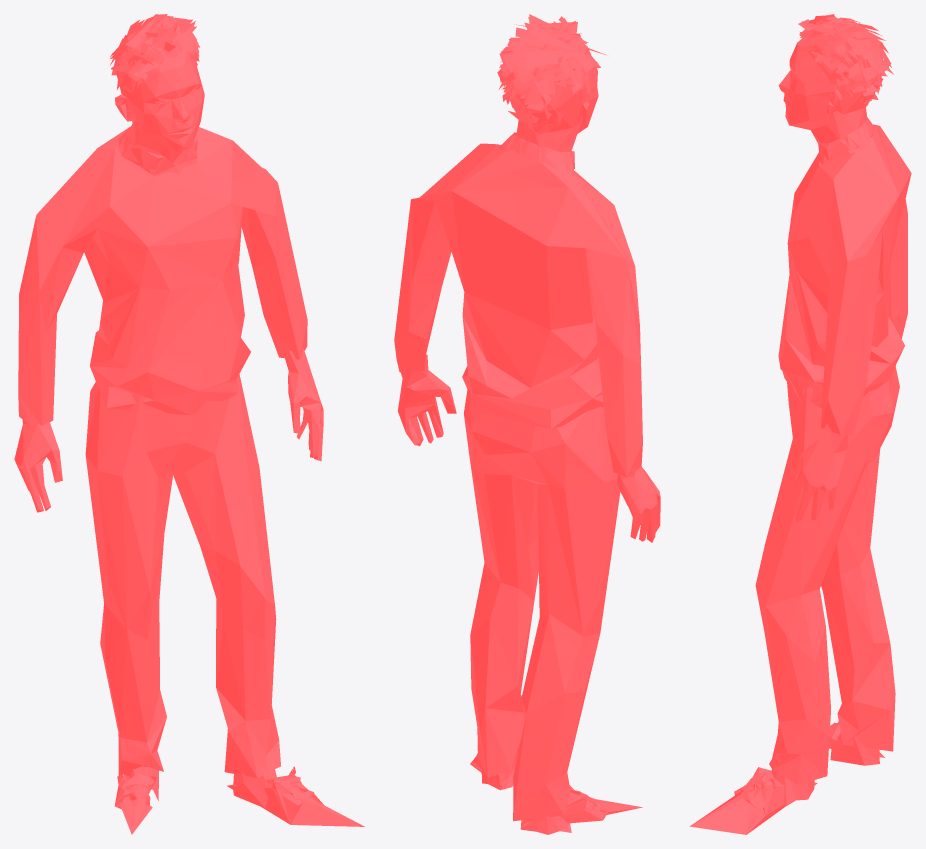
Rendered from ross_debout.glb.
The picture shows the model from 3 angles, left to right: view 1: azimuth 30°, elevation 25°; view 2: azimuth 150°, elevation 25°; view 3: azimuth 270°, elevation 25°; orthographic projection. The views are drawn at different scales.
Parts seen in each view (by area): view 1: Ch31_Sweater, Ch31_Pants, Ch31_Body, Ch31_Shoes, Ch31_Hair, Ch31_Collar; view 2: Ch31_Sweater, Ch31_Pants, Ch31_Body, Ch31_Hair, Ch31_Shoes, Ch31_Collar; view 3: Ch31_Pants, Ch31_Sweater, Ch31_Body, Ch31_Hair, Ch31_Shoes, Ch31_Collar.
Part boxes in pixels (x1,y1,x2,y2): Ch31_Sweater: (18,126,307,426); Ch31_Pants: (85,374,280,778); Ch31_Body: (14,37,323,808); Ch31_Shoes: (114,766,364,834); Ch31_Hair: (110,14,199,94); Ch31_Collar: (117,124,197,175); Ch31_Sweater: (394,143,642,477); Ch31_Pants: (463,387,620,821); Ch31_Body: (396,38,660,834); Ch31_Hair: (497,14,606,134); Ch31_Shoes: (470,753,642,827); Ch31_Collar: (498,132,574,173); Ch31_Pants: (755,366,899,784); Ch31_Sweater: (778,124,911,435); Ch31_Body: (771,32,895,805); Ch31_Hair: (798,14,893,108); Ch31_Shoes: (689,721,884,834); Ch31_Collar: (817,117,874,164).
Size of the model in its own units: 0.6398 by 1.76 by 0.4671.
